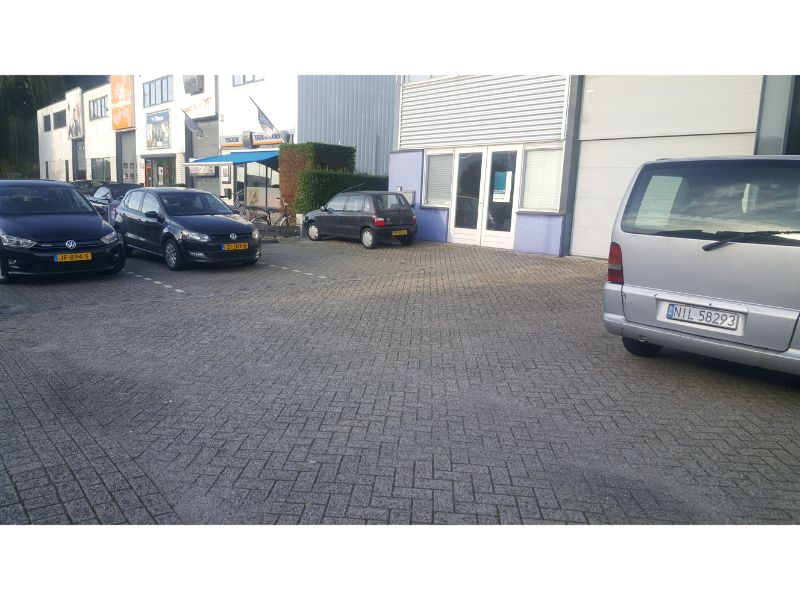kenteken: (663, 299, 739, 336), (223, 242, 250, 252), (390, 229, 410, 236)
